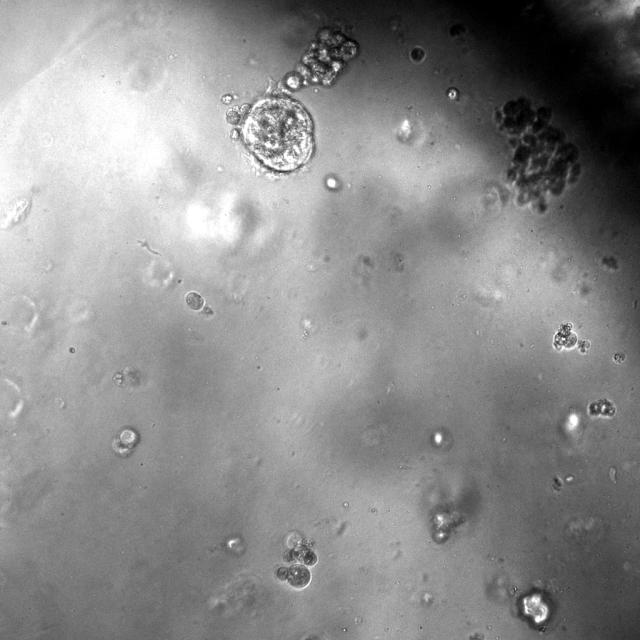organoid: (226, 27, 358, 172), (495, 96, 581, 211), (276, 531, 318, 588), (552, 323, 590, 353), (431, 510, 463, 544), (112, 426, 139, 457), (522, 594, 549, 624), (588, 398, 615, 417), (186, 291, 204, 311), (409, 46, 426, 64), (612, 353, 626, 364)
